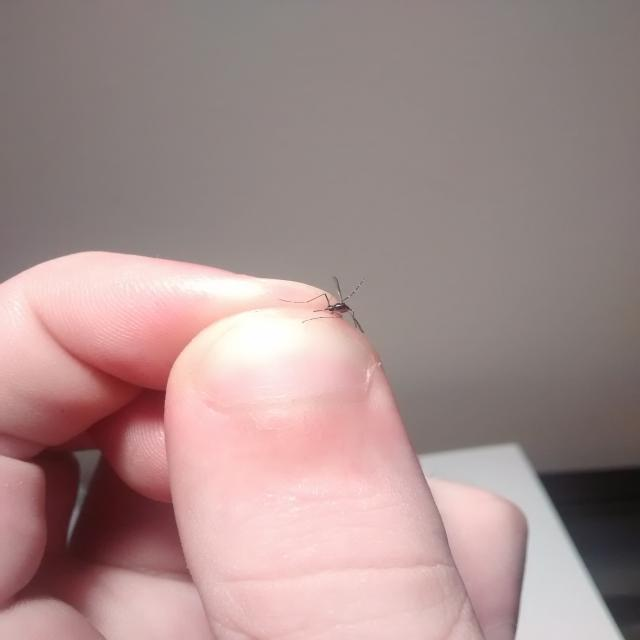albopictus: (271, 268, 376, 336)
